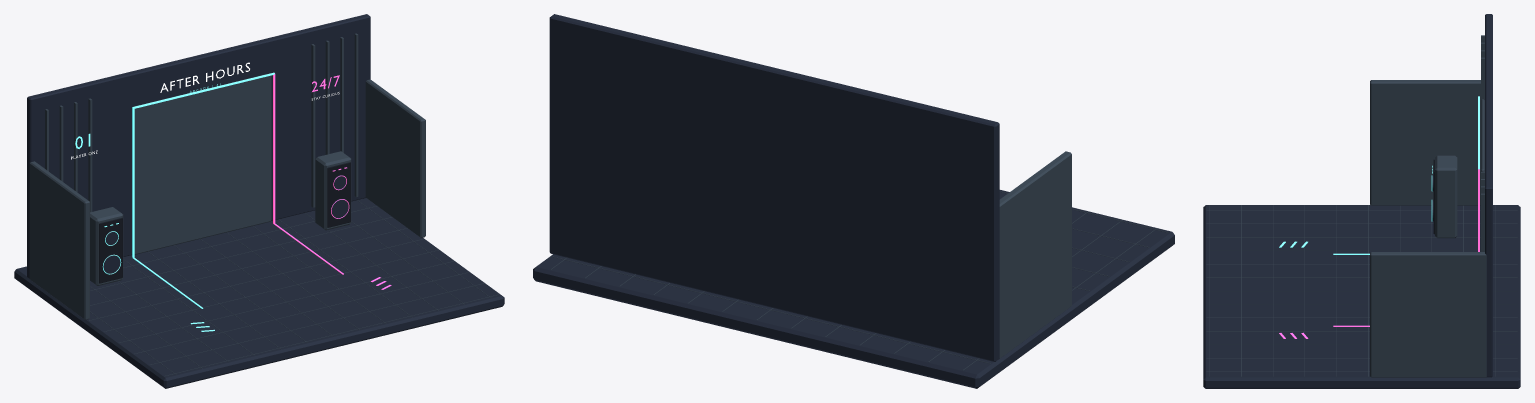
Rendered from arcade-room.glb.
3 views of the same model, side by side, from view 1: azimuth 30°, elevation 25°; view 2: azimuth 150°, elevation 25°; view 3: azimuth 270°, elevation 25° (orthographic). The views are drawn at different scales.
Visible parts, largest first — view 1: AH / midnight, AH / blue graphite, AH / rubber, AH / ice neon, AH / hot coral, AH / lettering; view 2: AH / midnight, AH / blue graphite; view 3: AH / midnight, AH / blue graphite, AH / ice neon, AH / hot coral.
Part boxes in pixels (x1,y1,x2,y2): AH / midnight: [14, 14, 504, 388]; AH / blue graphite: [29, 33, 499, 376]; AH / rubber: [99, 162, 350, 283]; AH / ice neon: [75, 72, 274, 331]; AH / hot coral: [273, 74, 391, 289]; AH / lettering: [71, 62, 339, 159]; AH / midnight: [533, 14, 1174, 388]; AH / blue graphite: [550, 151, 1168, 370]; AH / midnight: [1203, 14, 1520, 388]; AH / blue graphite: [1206, 35, 1517, 377]; AH / ice neon: [1279, 96, 1479, 254]; AH / hot coral: [1279, 169, 1479, 338].
Bounding box in the file's own units: 13.02 × 7.02 × 10.
